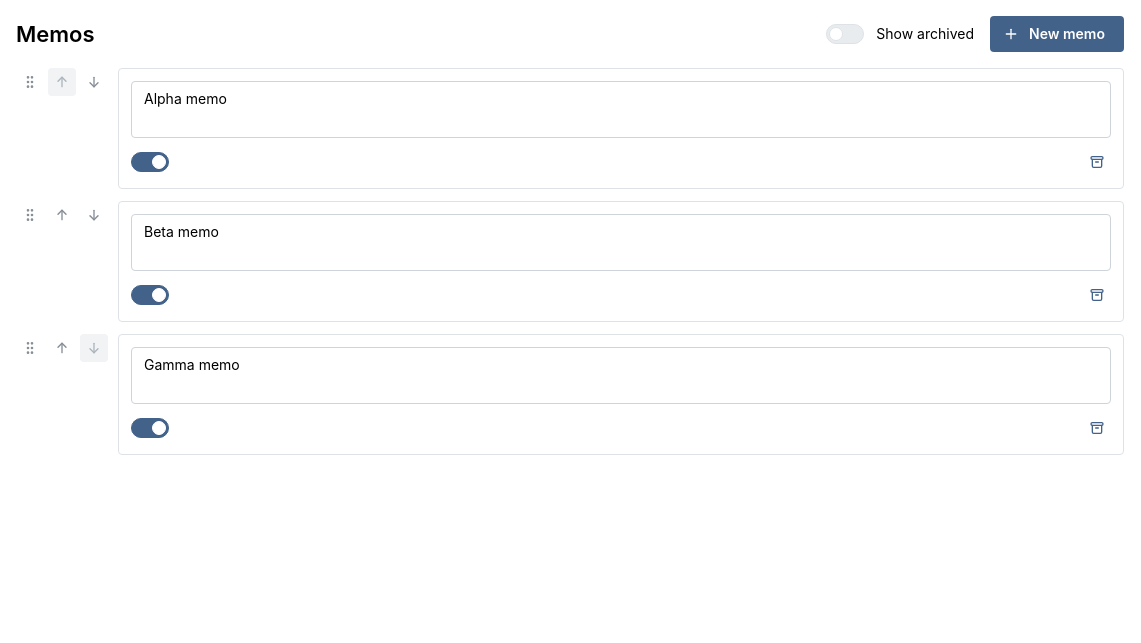
Test: after a successful reorder the list shows the SERVER's order (DoD-2) › DoD-2 (US-126.AC-2): the page renders the order the server returned, not the local computation
Click the button named "Move memo 2 up" at point(62, 215), box [48,201,76,229]
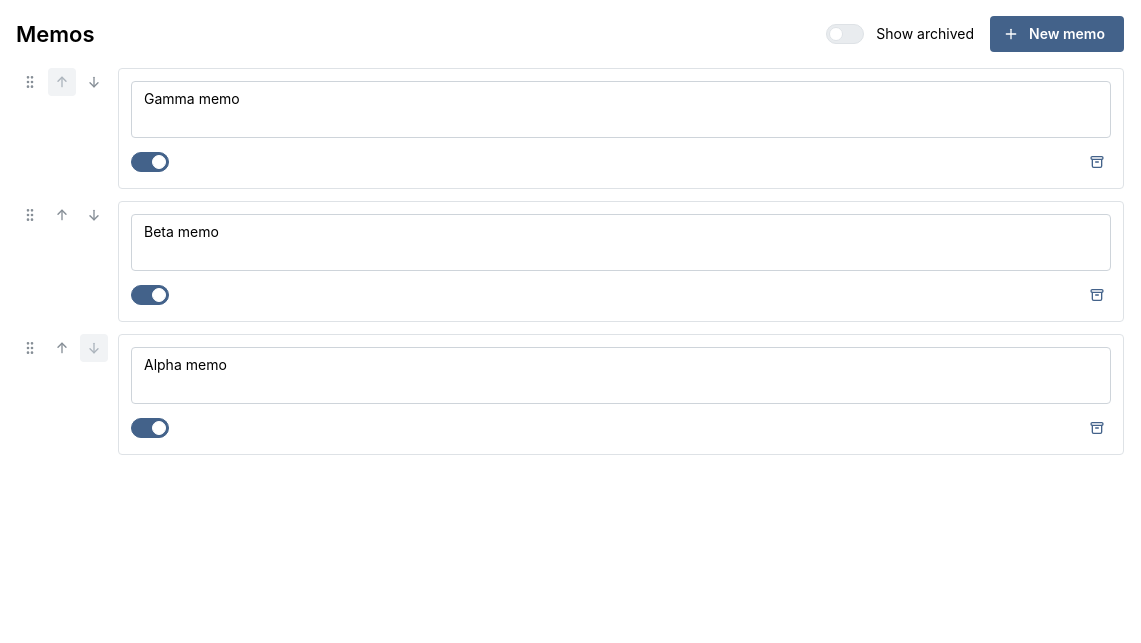
Nothing archived was lost because a reorder happened.
Click the 1st switch labelled "Show archived" at point(900, 34), box [826,24,974,44]
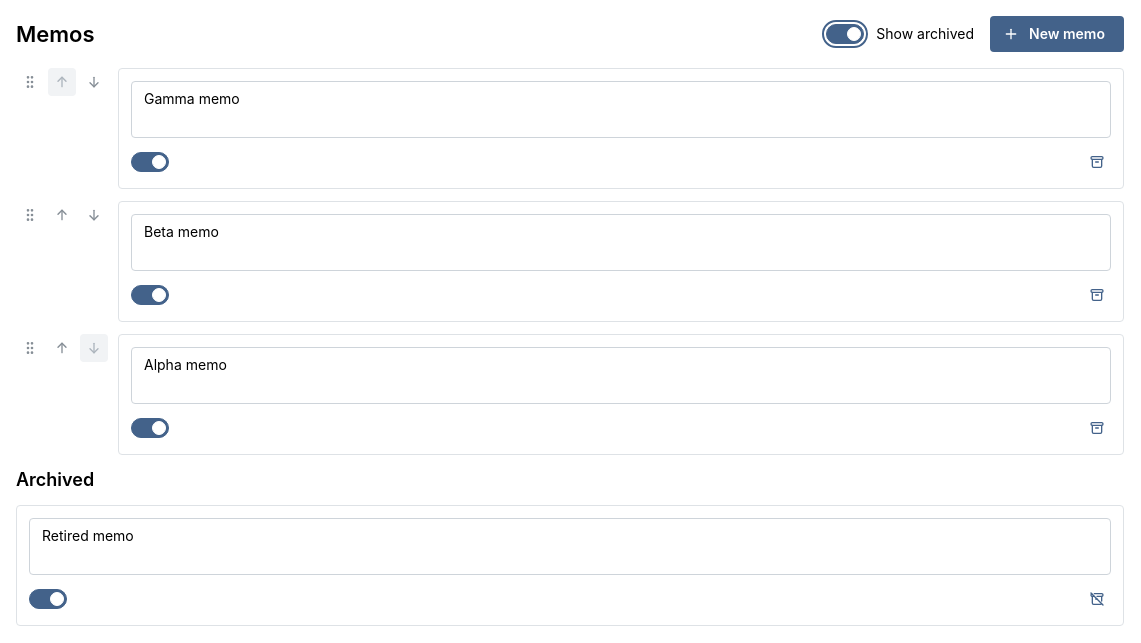
Check: the 2nd text box showing "Retired memo" is shown, box [29,518,1111,575]
